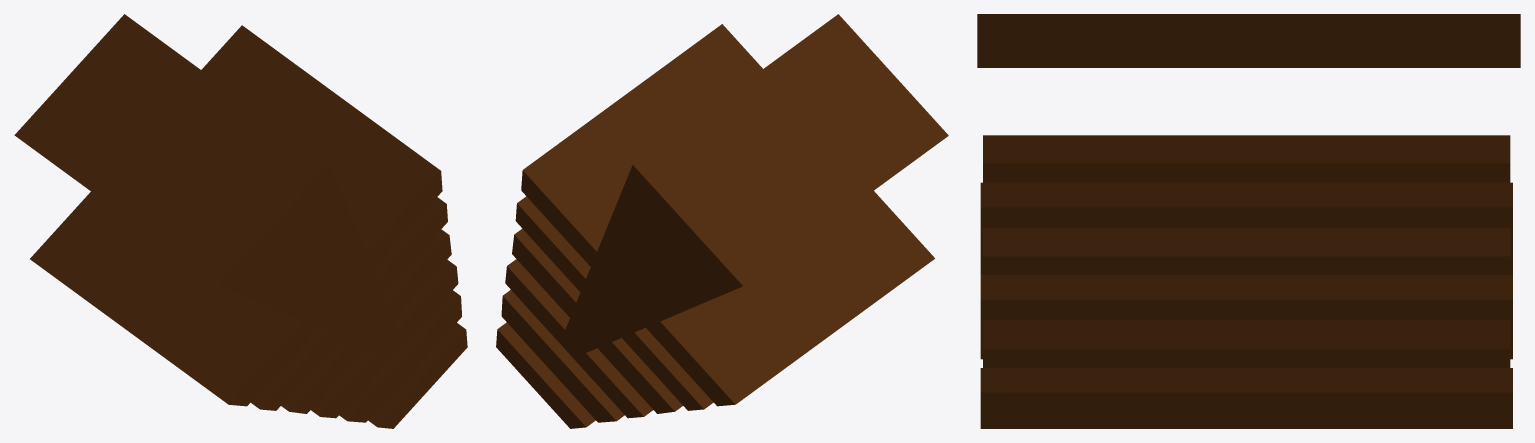
Rendered from chevron_6.obj.
The picture shows the model from 3 angles, left to right: view 1: azimuth 30°, elevation 25°; view 2: azimuth 150°, elevation 25°; view 3: azimuth 270°, elevation 25°; orthographic projection. The views are drawn at different scales.
Visible parts, largest first — view 1: chevron_6; view 2: chevron_6; view 3: chevron_6.
Boxes of the visible parts, x1=… form: chevron_6: x1=14, y1=14, x2=467, y2=428; chevron_6: x1=496, y1=14, x2=948, y2=428; chevron_6: x1=977, y1=14, x2=1520, y2=428.
Size of the model in its own units: 0.249 by 0.2687 by 0.3548.
